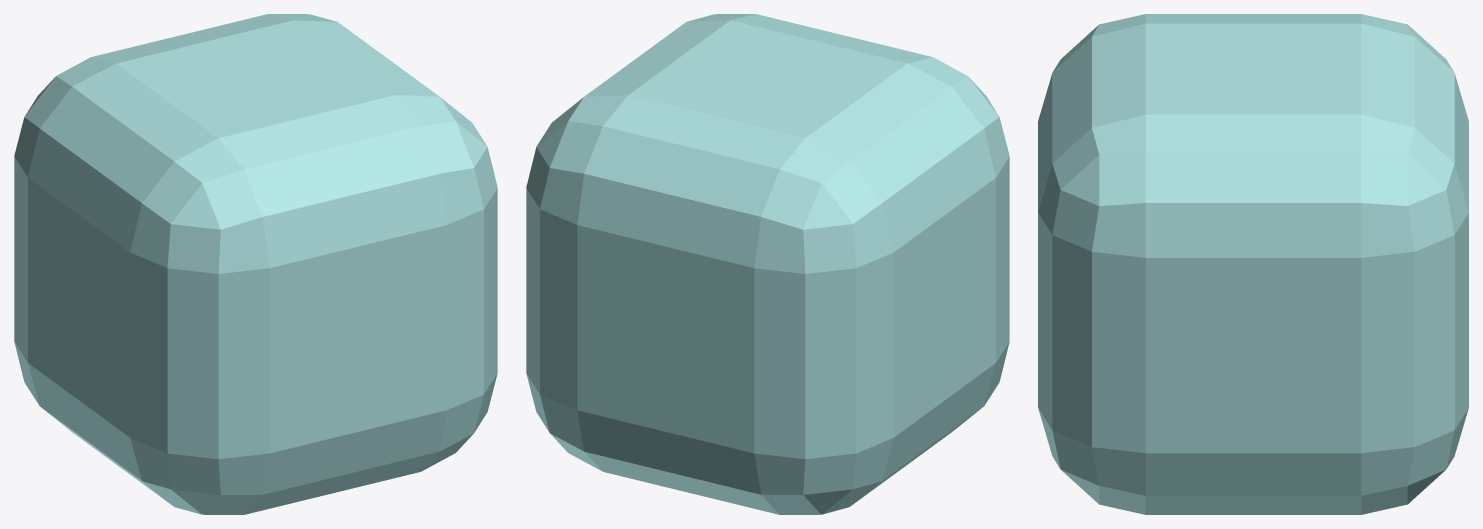
File: Smooth_Block.fbx
3 renders of one model, left to right at view 1: azimuth 30°, elevation 25°; view 2: azimuth 150°, elevation 25°; view 3: azimuth 270°, elevation 25°, orthographic. The views are drawn at different scales.
Visible parts, largest first — view 1: ground5; view 2: ground5; view 3: ground5.
Part boxes in pixels (<box>): ground5: <box>14,14,497,514</box>; ground5: <box>526,14,1009,514</box>; ground5: <box>1038,14,1468,514</box>.
Bounding box in the file's own units: 1 × 1 × 1.
